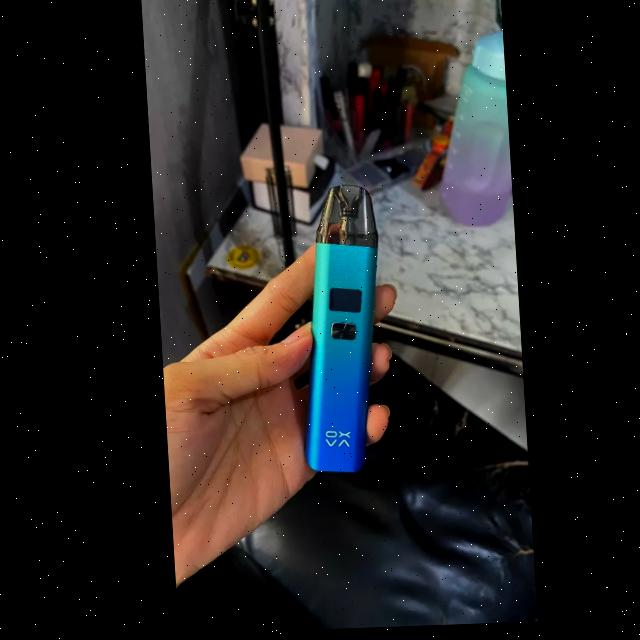vape: (286, 186, 387, 473)
